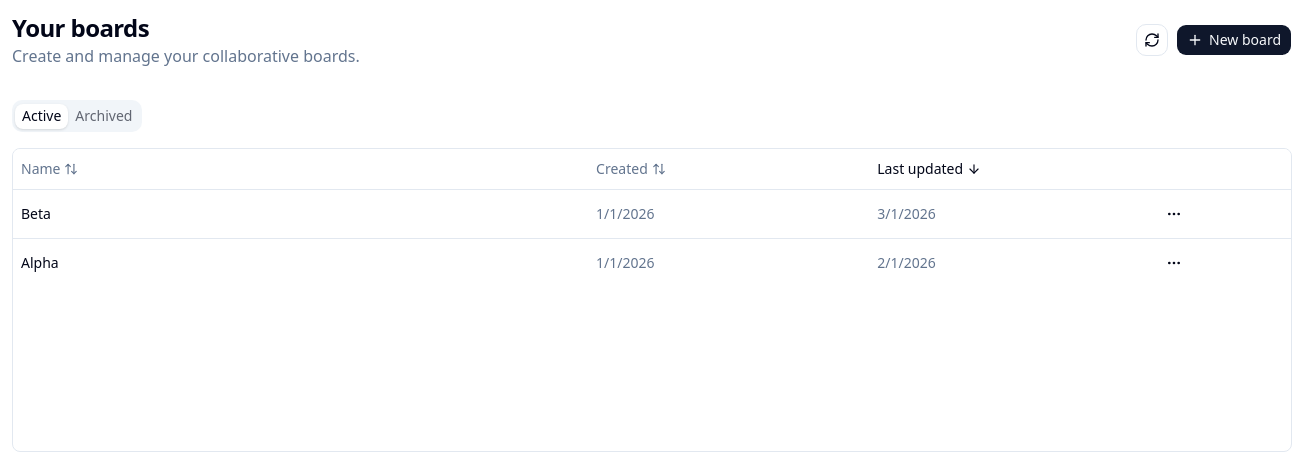
Scenario: DashboardPage integration › archives a board through the actions menu
Expected: the button "Alpha" is shown, [21,252,580,272]
Click the button named "Board actions" in the row of "2/1/2026" at (1174, 262), box [1158,246,1190,278]
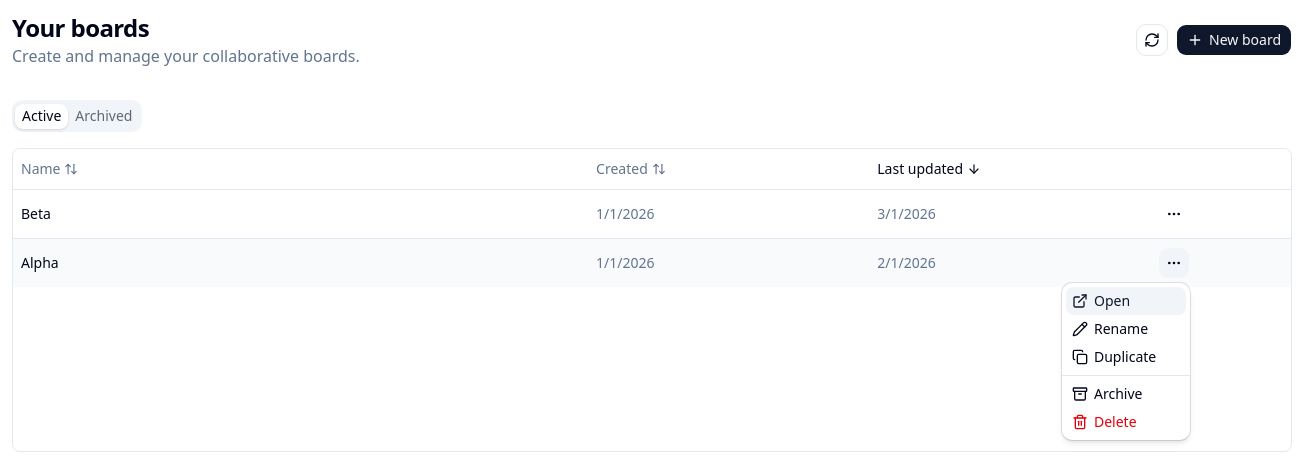
Expected: the menu is shown, [1062,283,1190,440]
Click the menu item "Archive" at (1107, 394), box [1072,384,1142,403]
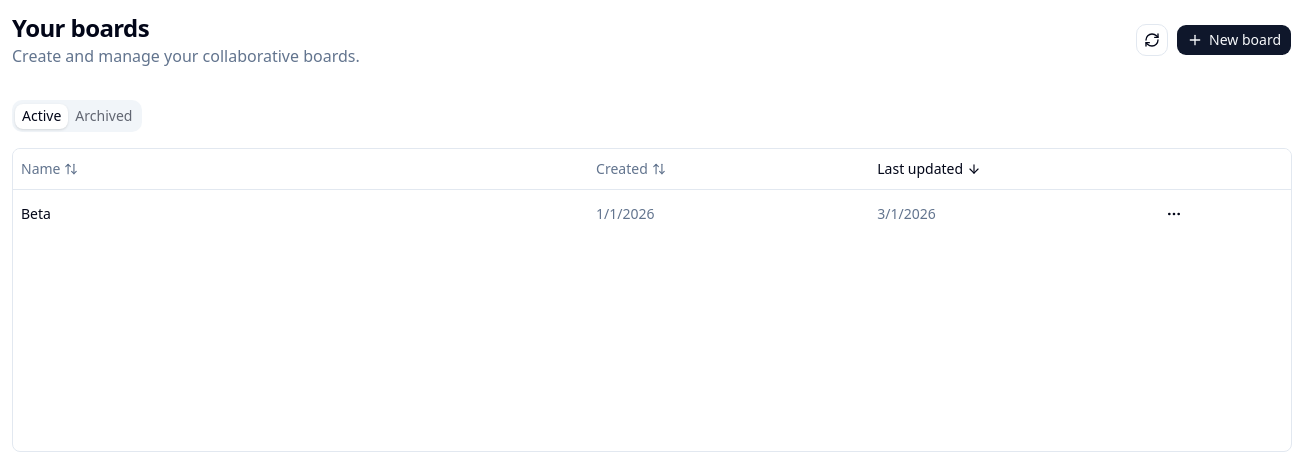
Expected: the button "Beta" is shown, [21,204,580,224]
Expected: the button "Alpha" is gone
